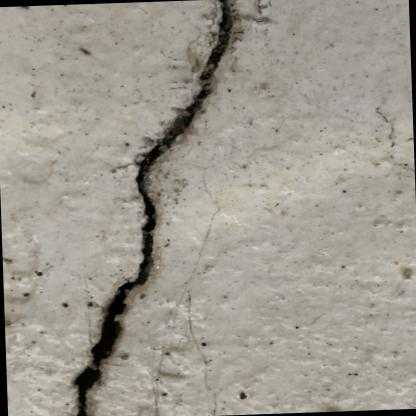crack: (70, 0, 227, 416)
